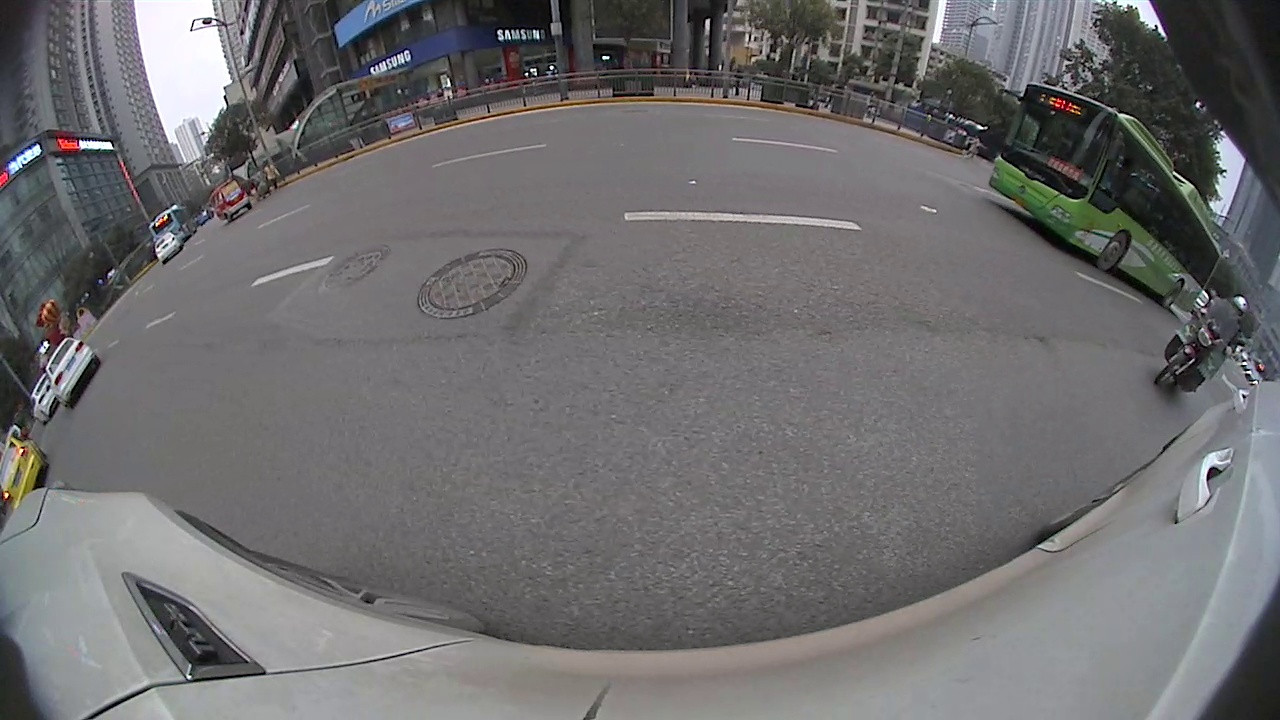bus: (988, 85, 1218, 329), (149, 204, 195, 248)
car: (40, 338, 114, 410), (1, 431, 49, 517), (29, 375, 57, 420), (155, 233, 180, 261)
front: (1094, 230, 1130, 274)
rear: (1160, 277, 1186, 312)
rider: (1156, 294, 1249, 393), (211, 179, 250, 224)
